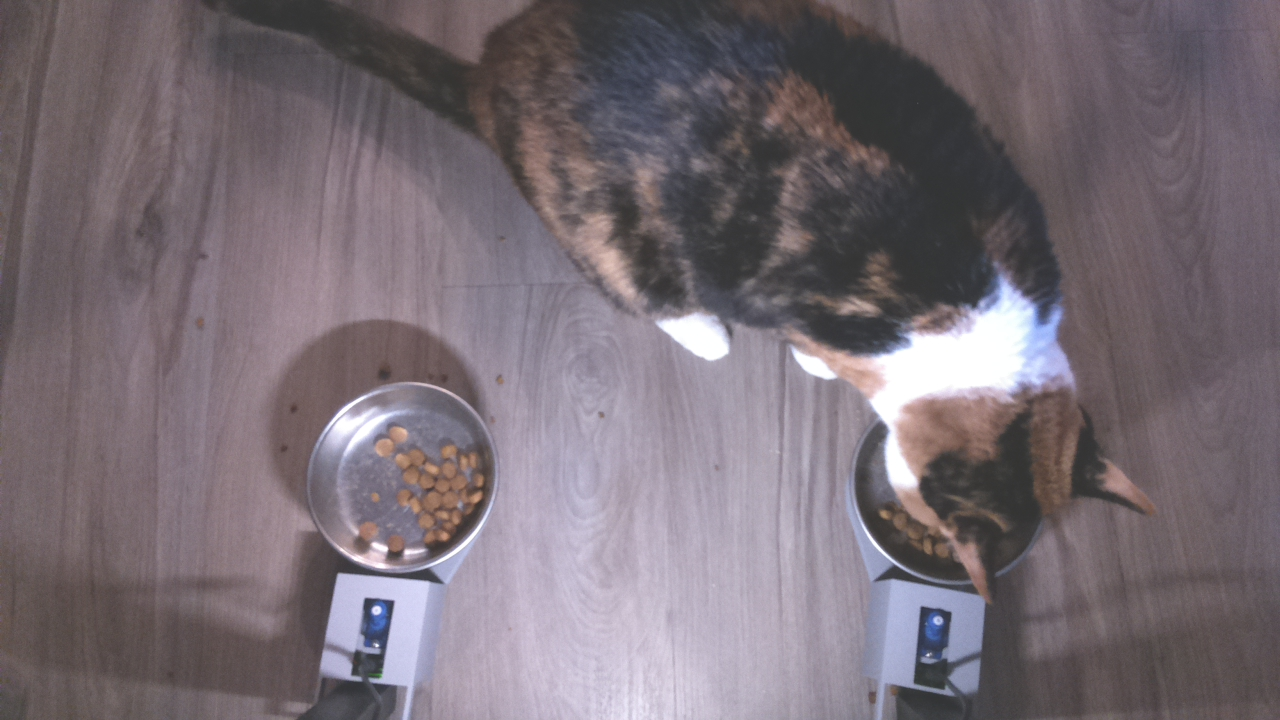bella_eating: (842, 305, 1173, 592)
open_bowl: (304, 378, 502, 575)
